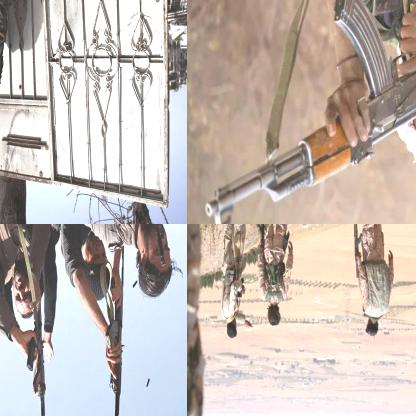rifle: (200, 0, 415, 223), (103, 271, 126, 415), (119, 224, 170, 269), (25, 302, 44, 415), (345, 224, 365, 280), (252, 224, 270, 266)
